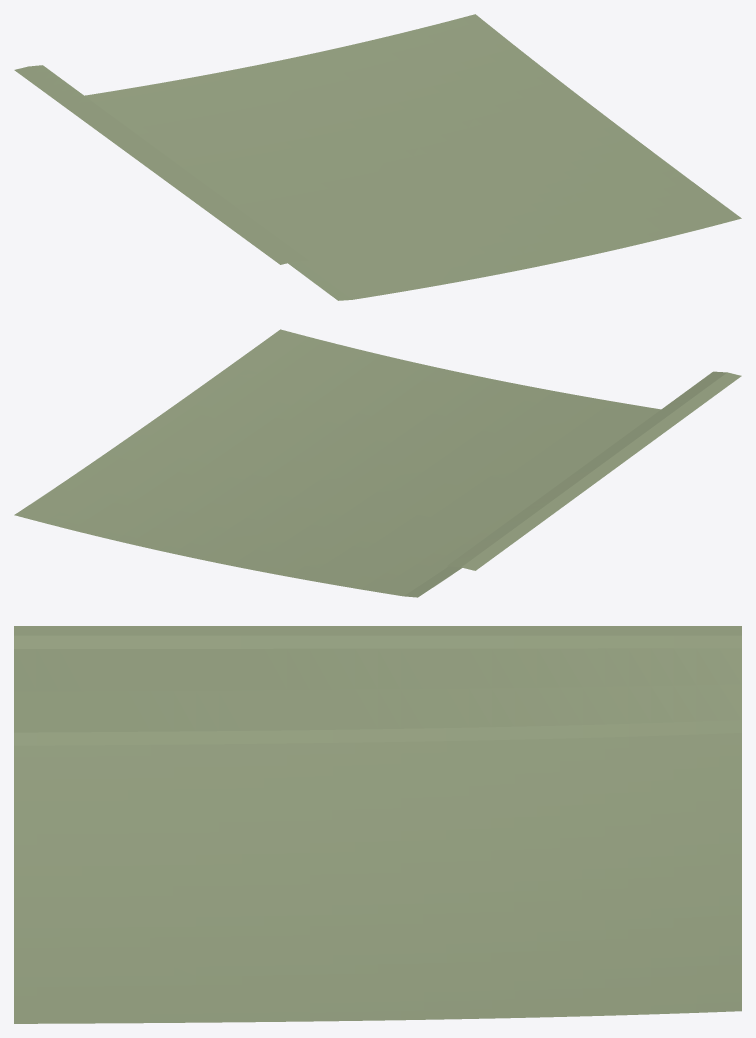
The model's file is valley-8-4.glb.
3 views of the same model, one above another, from view 1: azimuth 30°, elevation 25°; view 2: azimuth 150°, elevation 25°; view 3: azimuth 270°, elevation 25° (orthographic). The views are drawn at different scales.
Visible parts, largest first — view 1: valley-8-4; view 2: valley-8-4; view 3: valley-8-4.
Part boxes in pixels (x1,y1,x2,y2): valley-8-4: (14, 14, 741, 300); valley-8-4: (14, 329, 741, 597); valley-8-4: (14, 626, 741, 1023).
Size of the model in its own units: 256 by 35.5 by 256.
